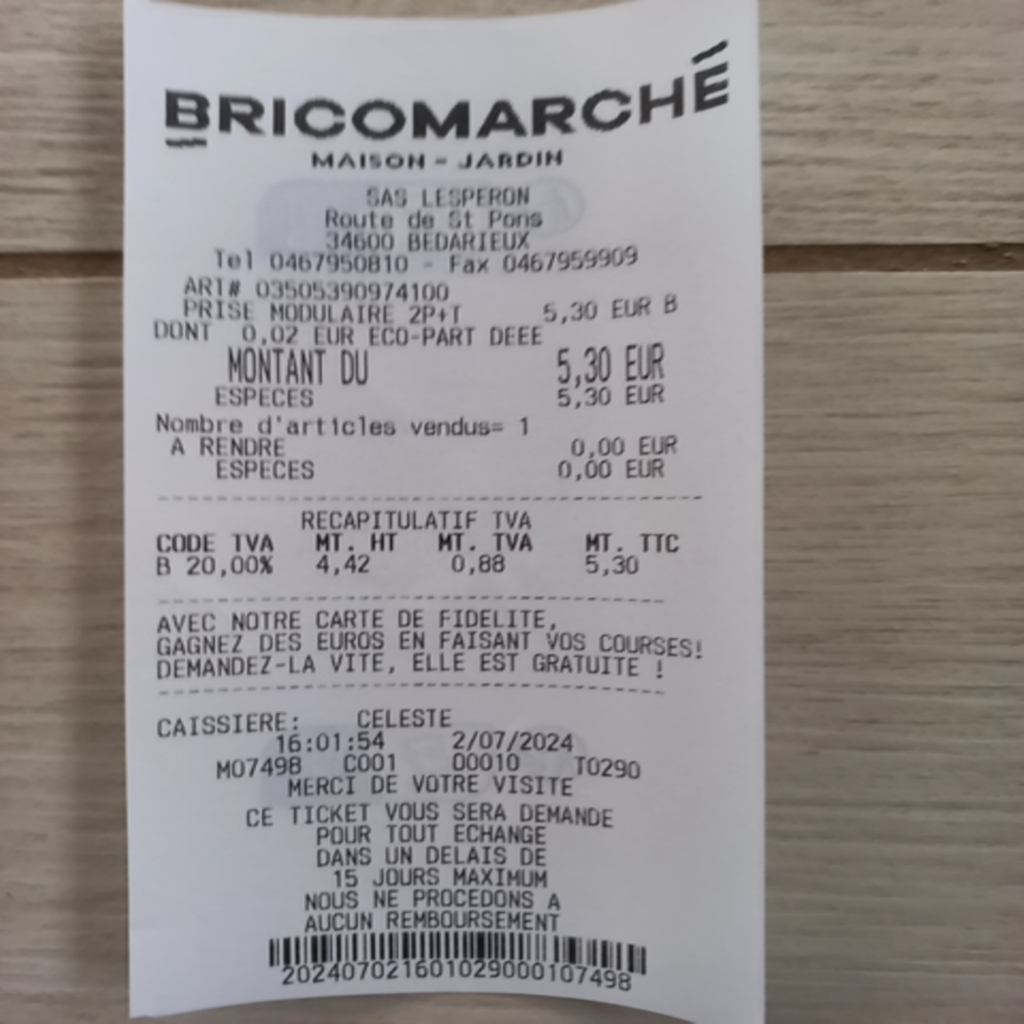recipt: (122, 0, 766, 1022)
